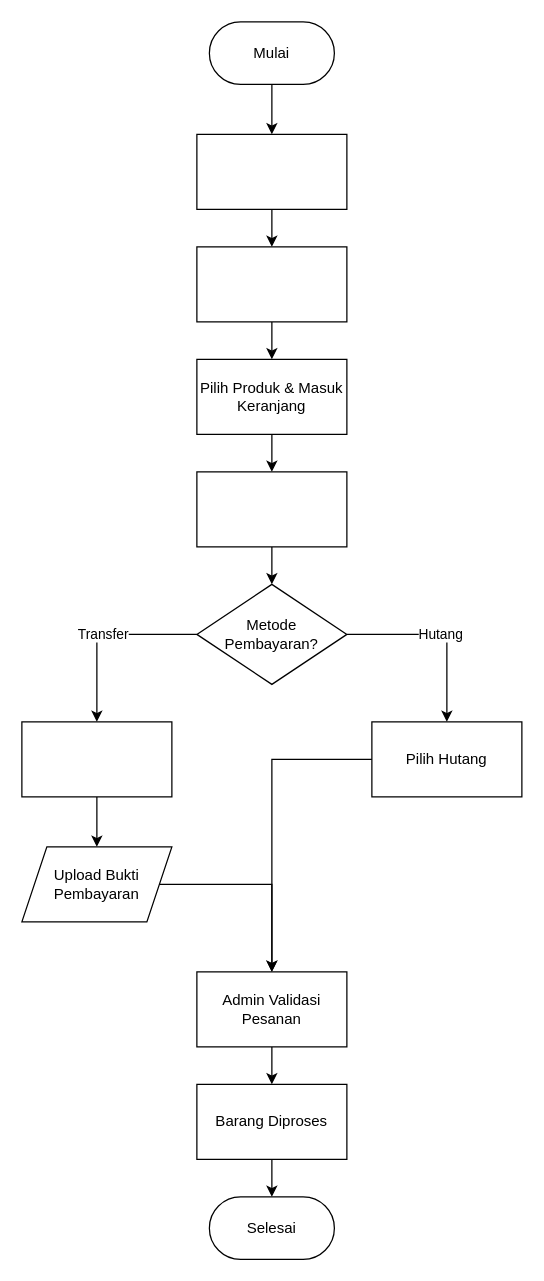
Image size: 544x1281. Some labels were removed from this diagram. Here are the shapes that lost their labels. From the top down, the centre of each, then its label:
At (x=271, y=171): "Buka Website".
At (x=271, y=284): "Login / Register".
At (x=271, y=509): "Checkout".
At (x=96, y=759): "Pilih Transfer".
